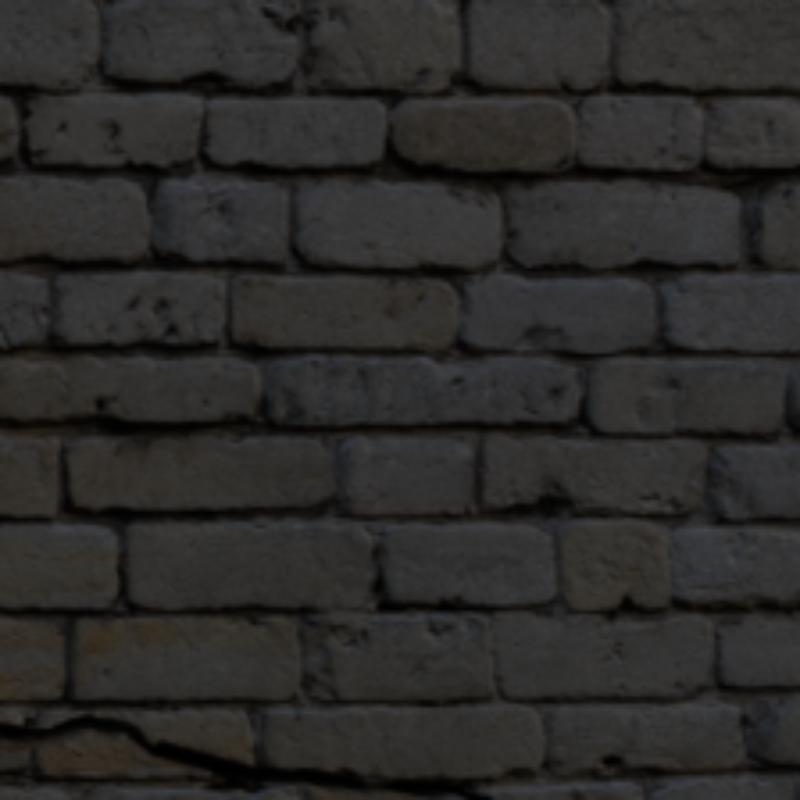pothole: (0, 714, 489, 796)
